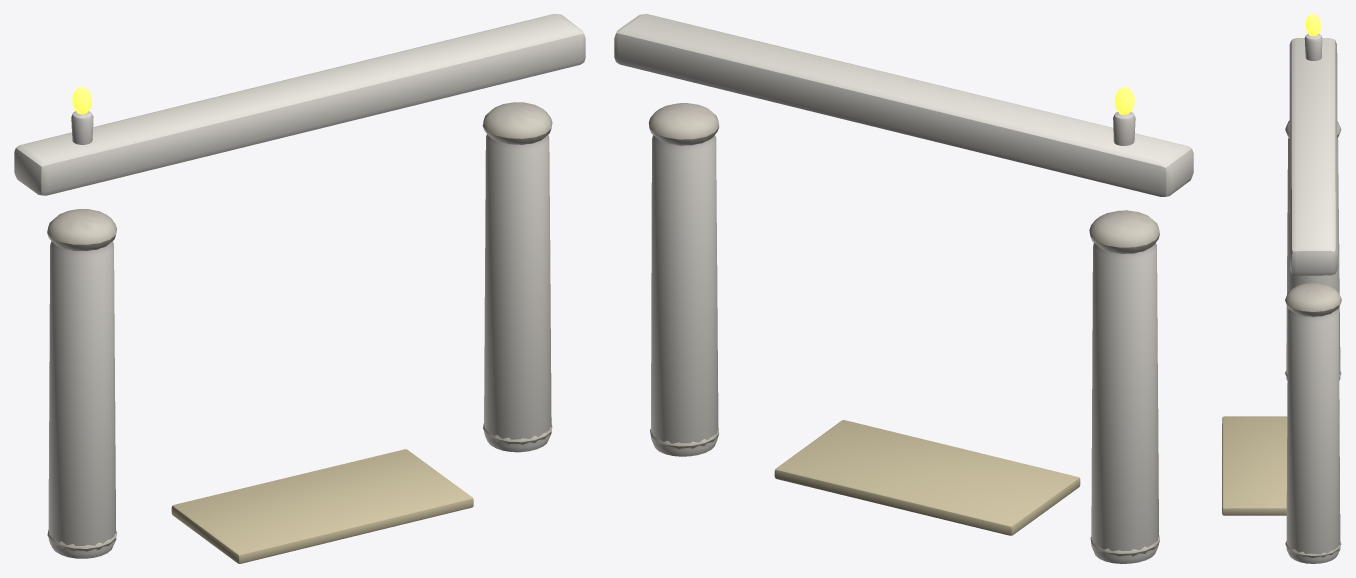
3 renders of one model, left to right at view 1: azimuth 30°, elevation 25°; view 2: azimuth 150°, elevation 25°; view 3: azimuth 270°, elevation 25°, orthographic. The views are drawn at different scales.
Parts seen in each view (by area): view 1: gate_f7dd9d60; view 2: gate_f7dd9d60; view 3: gate_f7dd9d60.
Boxes of the visible parts, <box> form: gate_f7dd9d60: <box>14,14,585,563</box>; gate_f7dd9d60: <box>614,14,1193,563</box>; gate_f7dd9d60: <box>1222,14,1341,563</box>.
Size of the model in its own units: 5.59 by 4.48 by 1.31.
